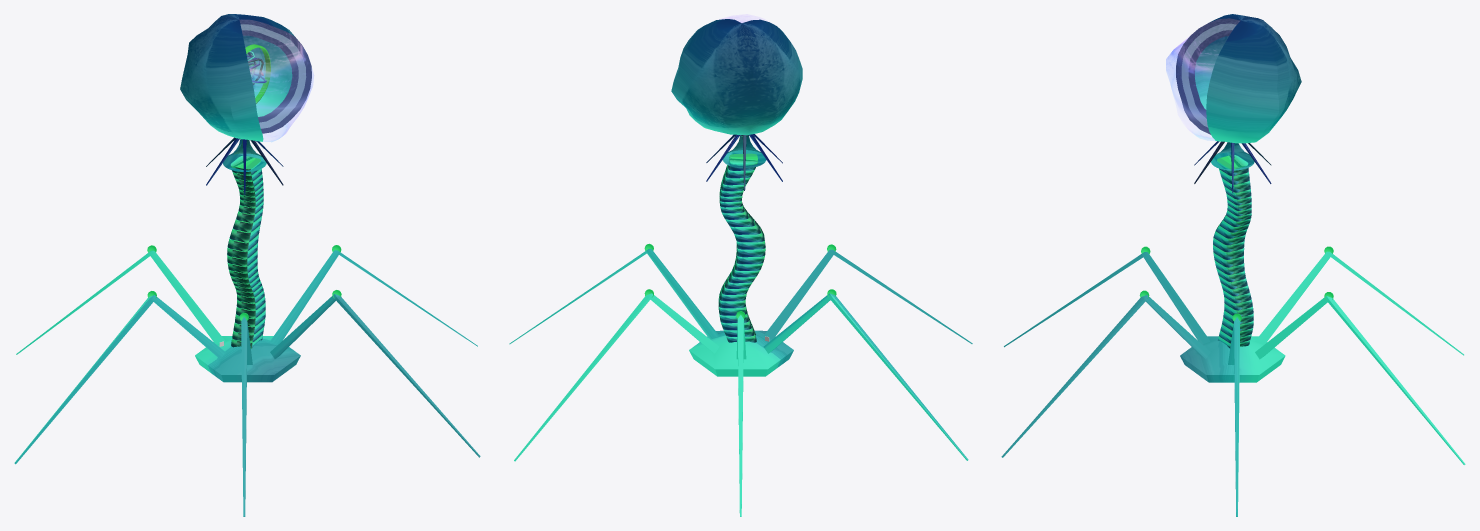
The model's file is NASA-Fase01.gltf.
3 renders of one model, left to right at view 1: azimuth 30°, elevation 25°; view 2: azimuth 150°, elevation 25°; view 3: azimuth 270°, elevation 25°, orthographic.
Visible parts, largest first — view 1: Sphere.012, Cylinder, Sphere.015, Cube.001; view 2: Sphere.012, Cylinder, Cube.001; view 3: Sphere.012, Cylinder, Cube.001, Sphere.015.
Part boxes in pixels (x1,y1,x2,y2): Sphere.012: [180, 14, 311, 141]; Cylinder: [14, 137, 480, 516]; Sphere.015: [240, 20, 313, 142]; Cube.001: [227, 156, 265, 348]; Sphere.012: [671, 19, 802, 135]; Cylinder: [509, 134, 972, 516]; Cube.001: [718, 153, 765, 342]; Sphere.012: [1176, 14, 1301, 143]; Cylinder: [1001, 141, 1465, 516]; Cube.001: [1213, 155, 1253, 348]; Sphere.015: [1166, 19, 1239, 141].
Bounding box in the file's own units: 160 × 129 × 139.
Materials: 8 (3 with a texture image).
